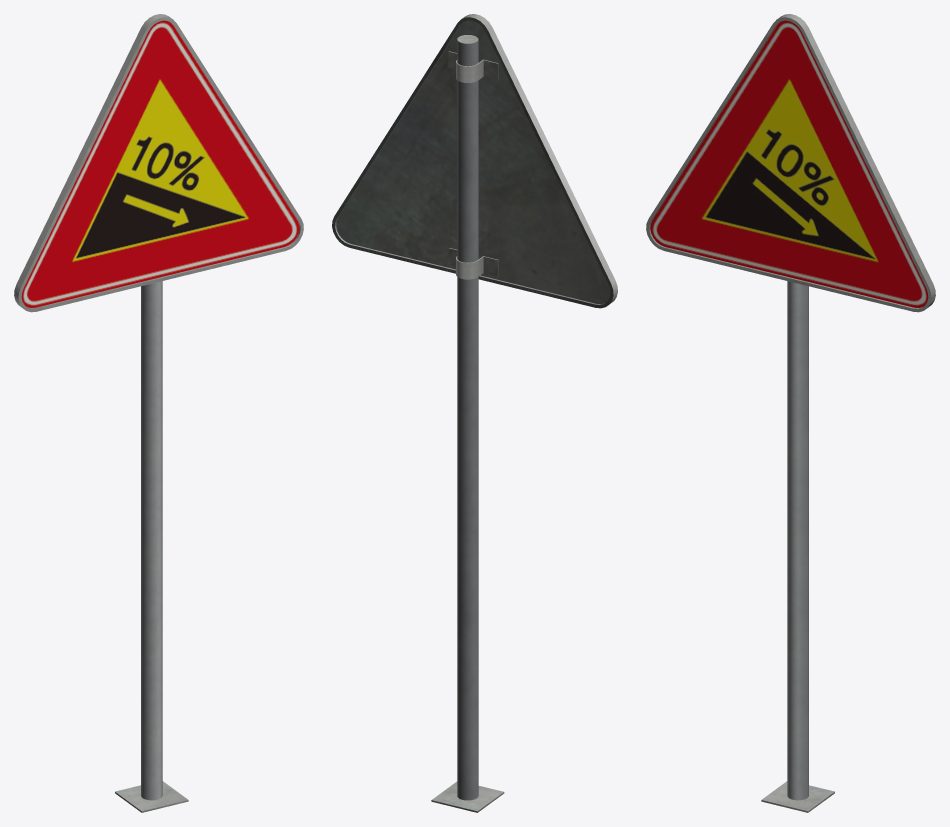
The picture shows the model from 3 angles, left to right: view 1: azimuth 30°, elevation 25°; view 2: azimuth 150°, elevation 25°; view 3: azimuth 330°, elevation 25°; orthographic projection.
Visible parts, largest first — view 1: MainBuilding; view 2: MainBuilding; view 3: MainBuilding.
Boxes of the visible parts, box(x1,y1,x2,y2) form: MainBuilding: box(14, 14, 303, 812); MainBuilding: box(332, 14, 617, 812); MainBuilding: box(646, 14, 935, 812).
Size of the model in its own units: 0.9151 by 2.41 by 0.15.
Materials: 1 (1 with a texture image).
